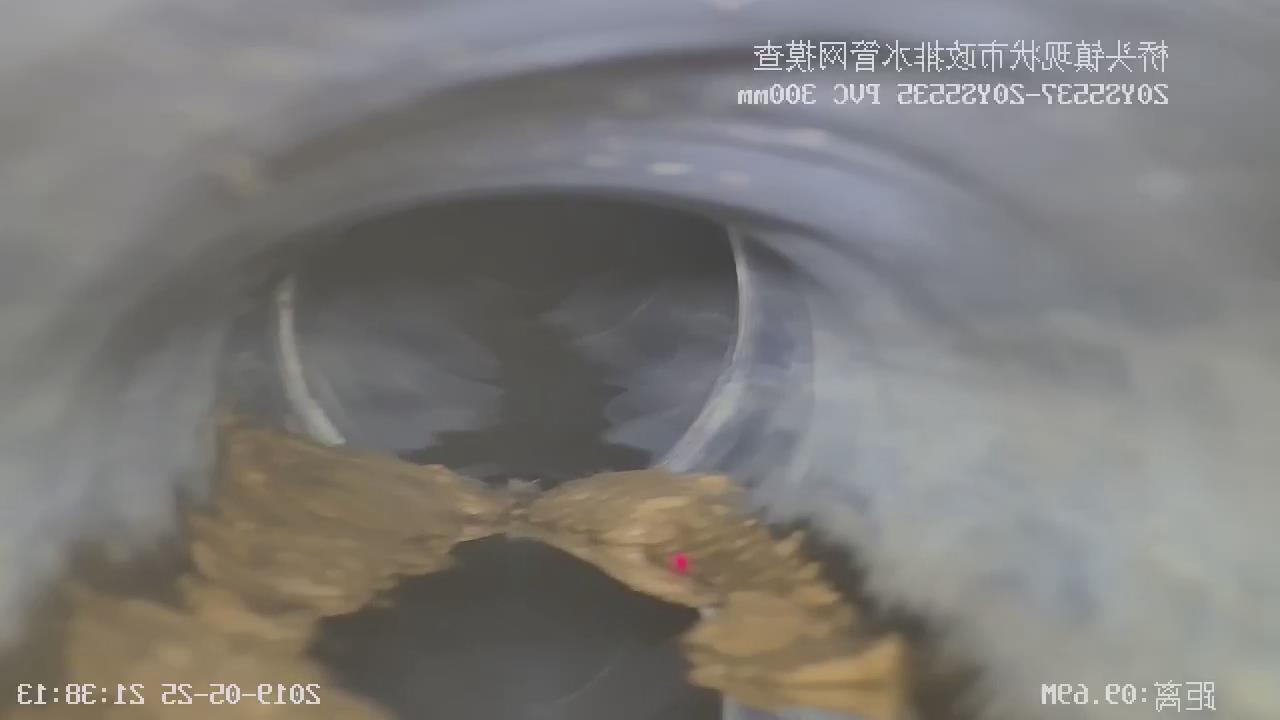BX: (175, 14, 873, 521)
JG: (1, 421, 910, 719)
